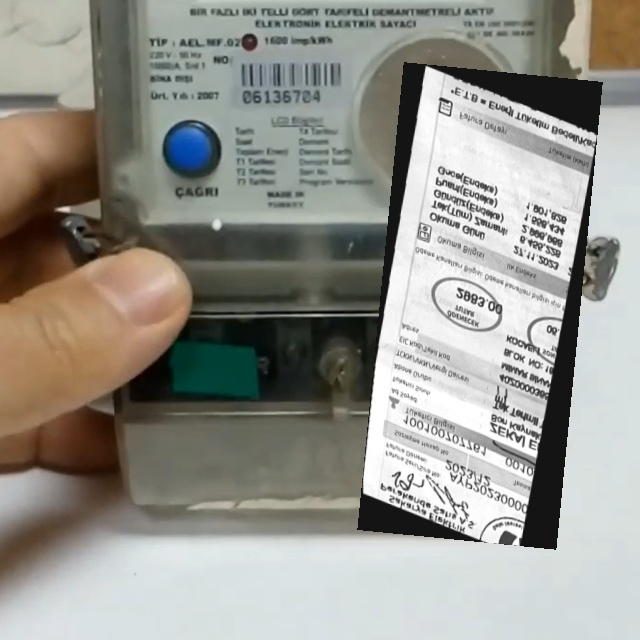electricity-bill: (357, 62, 603, 550)
